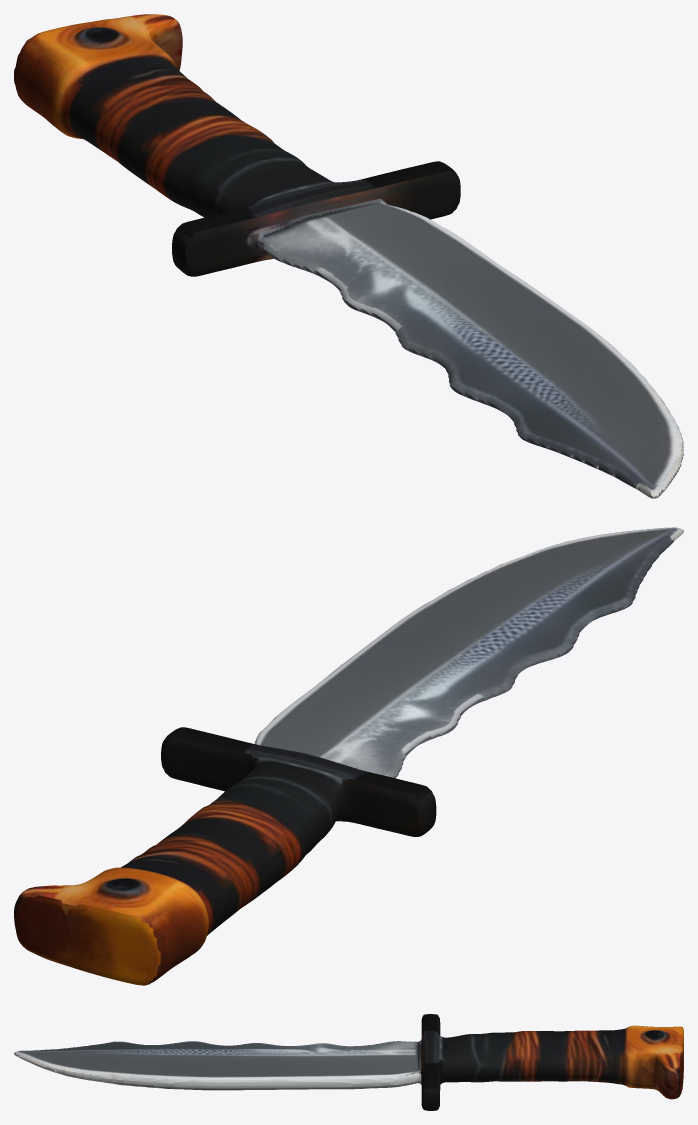
File: machete.glb
3 renders of one model, top to bottom at view 1: azimuth 30°, elevation 25°; view 2: azimuth 150°, elevation 25°; view 3: azimuth 270°, elevation 25°, orthographic. The views are drawn at different scales.
Parts seen in each view (by area): view 1: tmp3cb4zrtw.ply; view 2: tmp3cb4zrtw.ply; view 3: tmp3cb4zrtw.ply.
Part boxes in pixels (x1,y1,x2,y2): tmp3cb4zrtw.ply: [14, 14, 683, 498]; tmp3cb4zrtw.ply: [14, 527, 683, 985]; tmp3cb4zrtw.ply: [14, 1014, 683, 1110].
Bounding box in the file's own units: 0.2664 × 0.0789 × 0.9873.
Materials: 1 (1 with a texture image).
